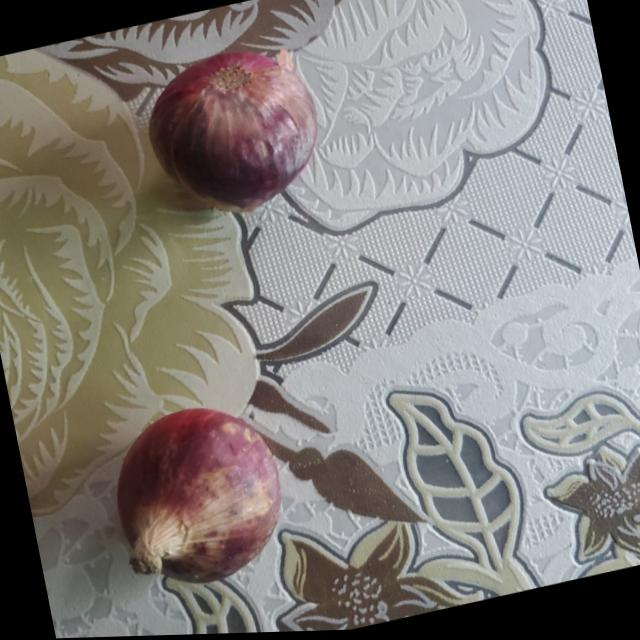onion: (101, 391, 291, 595), (140, 32, 336, 225)
